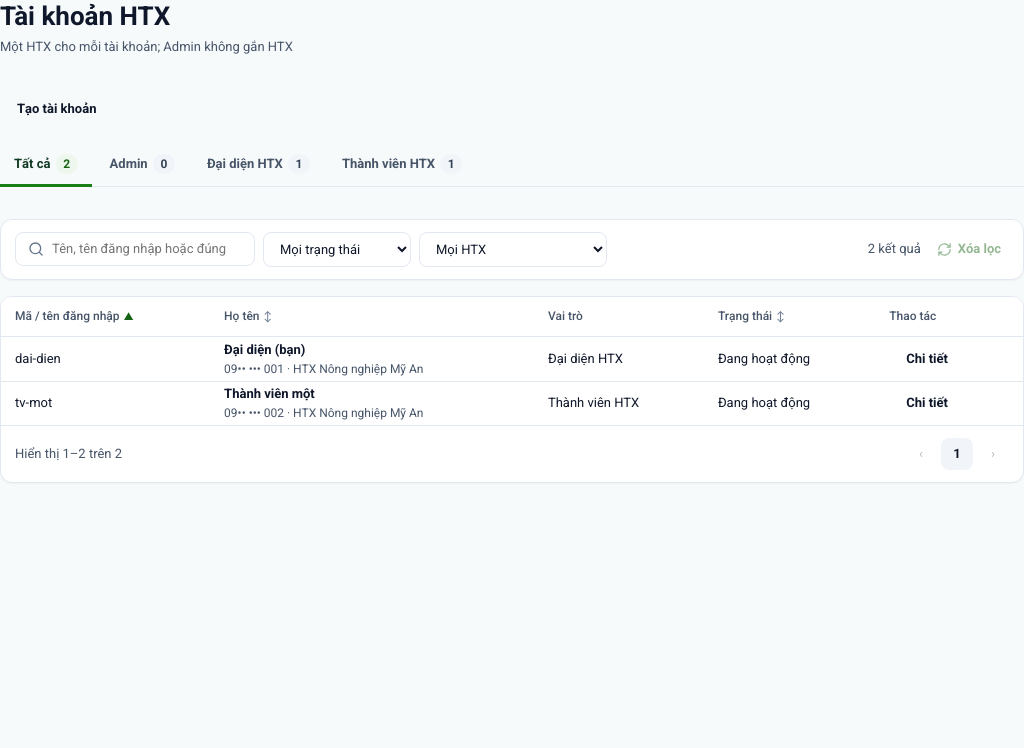
[AC-01, AC-02] chỉ thấy Thành viên HTX của HTX mình và dòng của mình; tạo chỉ Thành viên HTX, không chọn HTX
The width and height of the screenshot is (1024, 748).
Check: the text "tv-mot" is shown, box [1,381,210,425]
Check: the text "dai-dien" is shown, box [1,337,210,381]
Click the button "Tạo tài khoản". click: (57, 108)
box: [0,90,1023,128]
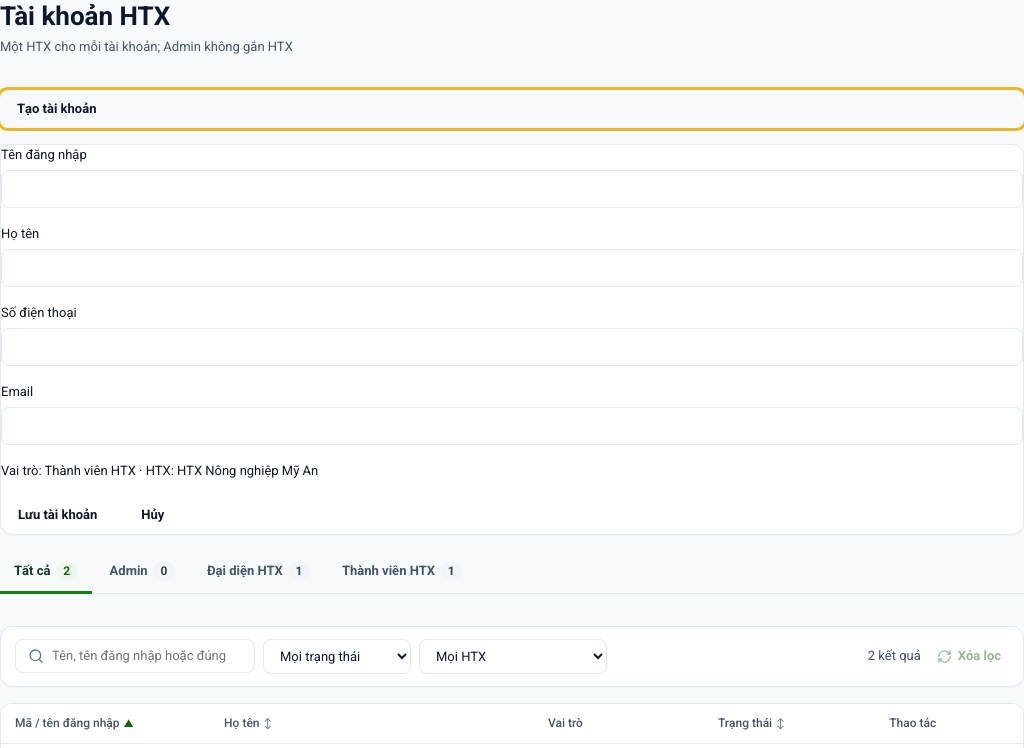
Check: the text "Vai trò: Thành viên HTX · HTX: HTX Nông nghiệp Mỹ An" is shown, box [1,462,318,478]
Type "tv-moi" into the field labelled "Tên đăng nhập". click: (512, 189)
box: [1,170,1023,208]
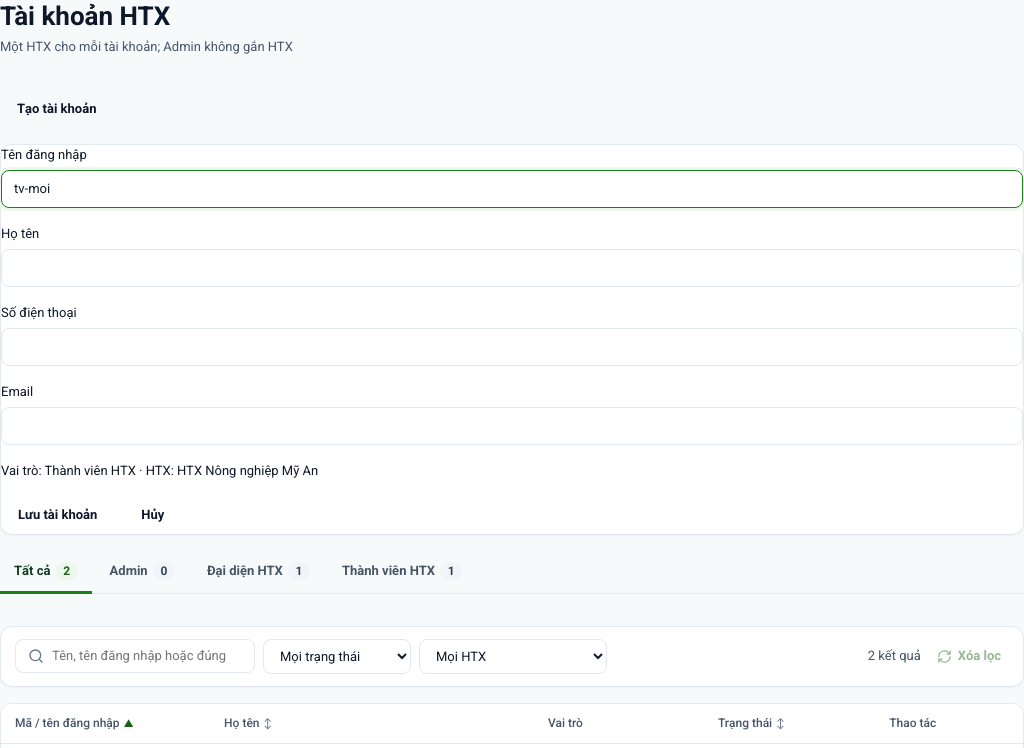
Type "Thành viên mới" into the field labelled "Họ tên". click: (512, 268)
box: [1,249,1023,286]
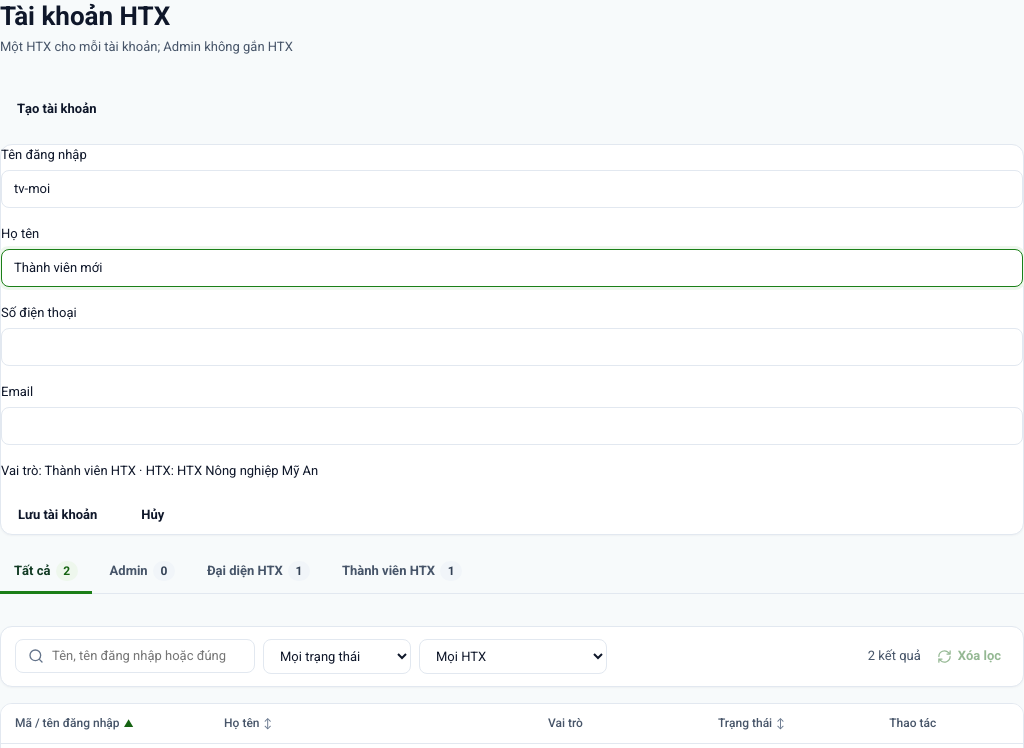
Type "0912000009" into the field labelled "Số điện thoại". click: (512, 347)
box: [1,328,1023,366]
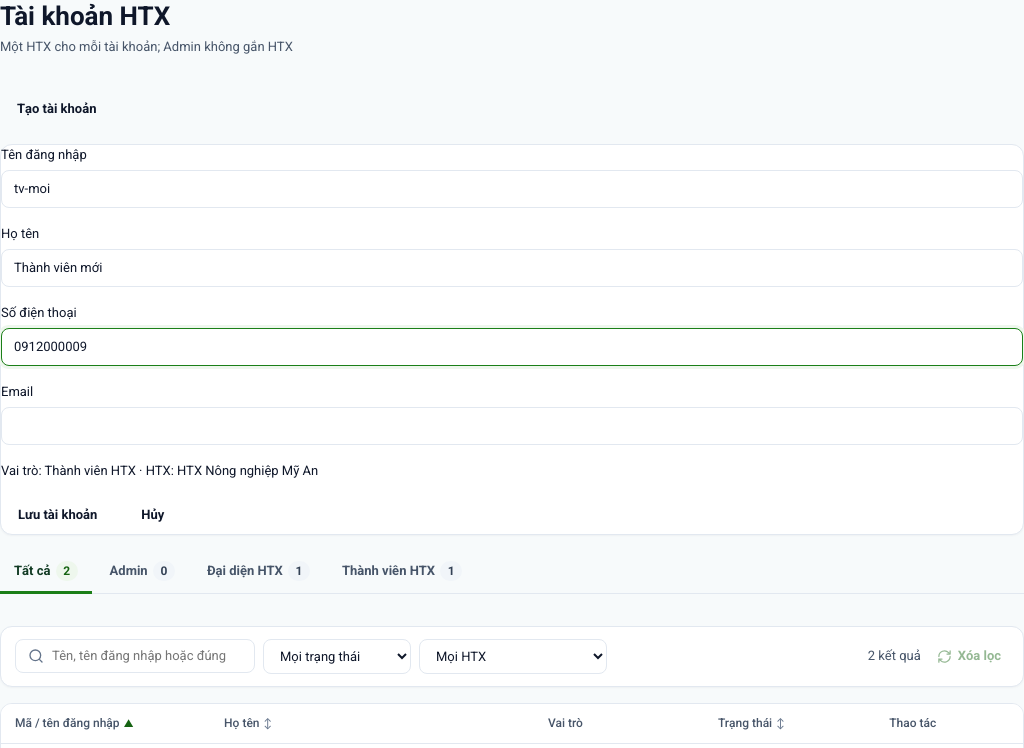
Click the button "Lưu tài khoản". click: (58, 515)
box: [1,496,114,534]
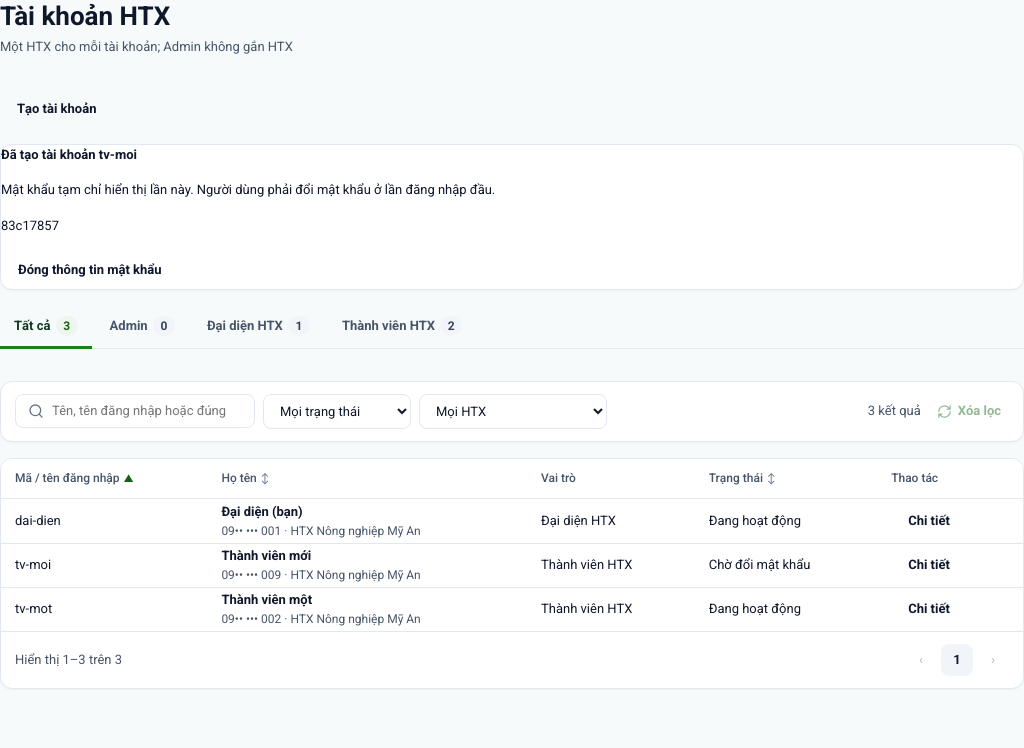
Check: the text named "Mật khẩu tạm" reads "83c17857", box [1,218,59,232]
